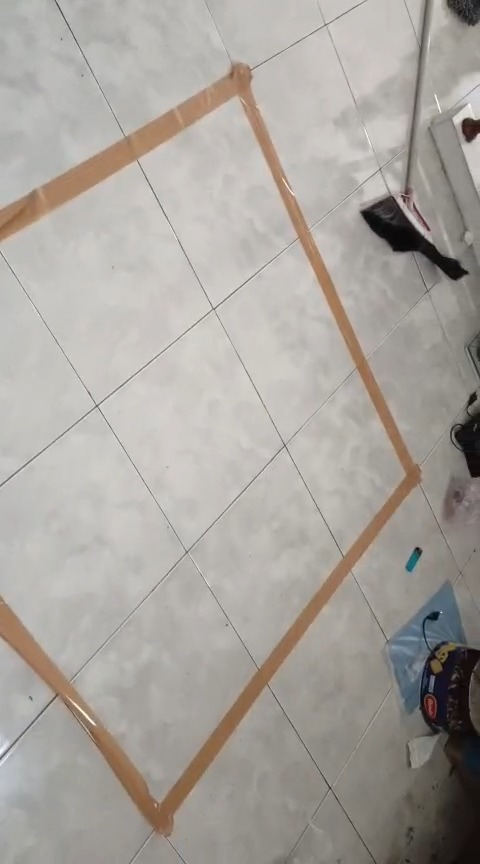floor marking: (0, 64, 420, 836)
